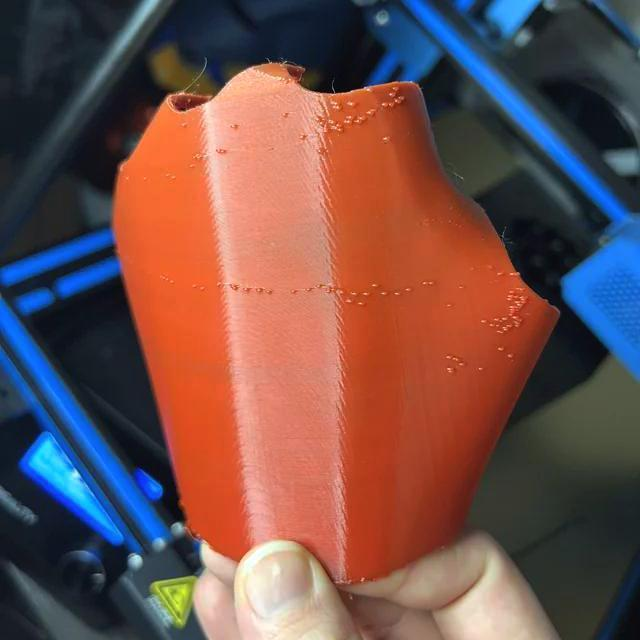zits: (333, 121, 348, 135), (328, 99, 344, 112), (342, 98, 357, 110), (420, 278, 438, 288), (396, 92, 406, 109), (380, 131, 394, 143), (344, 113, 356, 127), (506, 303, 518, 316), (192, 150, 206, 161), (376, 288, 388, 300), (228, 121, 242, 131), (214, 146, 228, 156), (294, 130, 308, 140), (366, 107, 380, 117), (355, 116, 367, 126), (354, 298, 366, 308), (230, 283, 242, 293), (444, 365, 456, 375), (504, 290, 516, 300), (327, 116, 338, 126), (390, 290, 402, 299), (507, 268, 519, 277), (314, 112, 324, 122), (506, 351, 516, 361), (347, 291, 359, 299), (454, 282, 466, 290), (477, 365, 488, 373), (453, 355, 462, 364), (281, 111, 291, 119), (370, 282, 380, 290), (344, 296, 352, 306), (304, 286, 314, 294), (256, 287, 266, 295), (242, 285, 252, 293), (487, 264, 497, 272), (444, 352, 452, 362), (496, 346, 506, 354), (516, 286, 526, 294), (362, 291, 372, 298), (290, 288, 300, 295), (480, 316, 487, 326), (387, 102, 395, 110), (388, 91, 396, 99), (266, 288, 274, 296), (446, 301, 454, 309), (513, 316, 521, 324), (404, 286, 414, 292), (316, 282, 325, 288), (380, 101, 386, 109), (470, 263, 476, 271), (501, 316, 509, 322), (498, 329, 506, 335), (498, 272, 504, 278), (494, 316, 498, 322)
